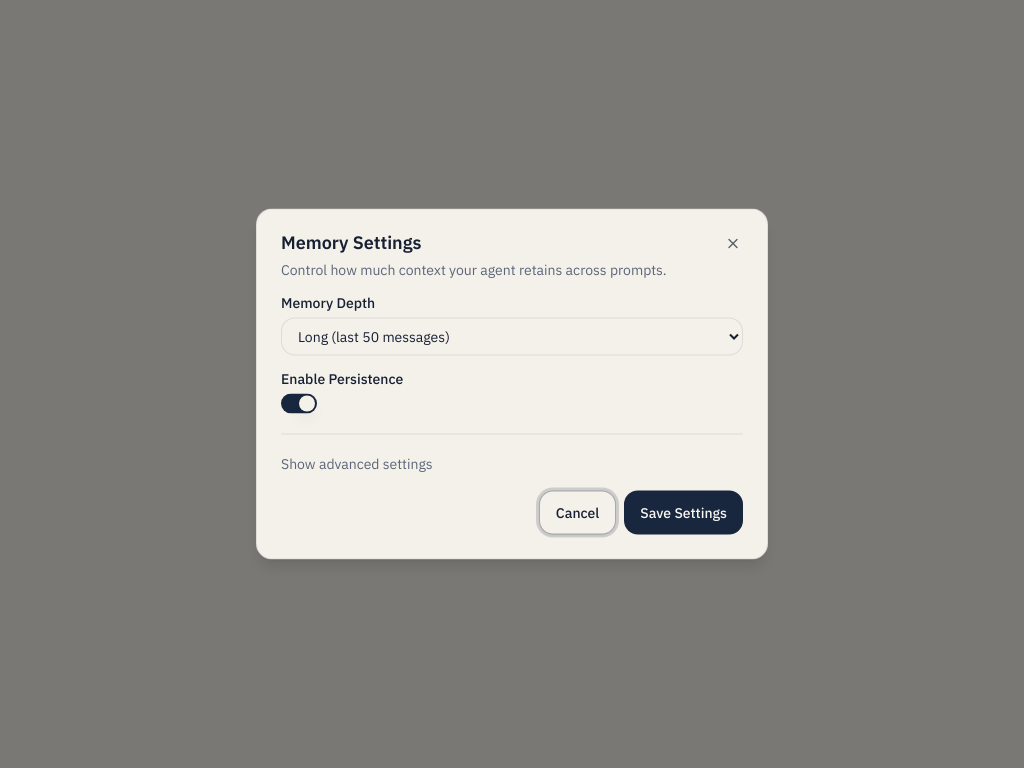
MemoryConfigDialog › shows custom buffer size input when custom depth is selected
Step 1. Select "Custom" in the dropdown labelled "Memory Depth" → {"x": 512, "y": 336}, box x1=281 y1=318 x2=743 y2=356
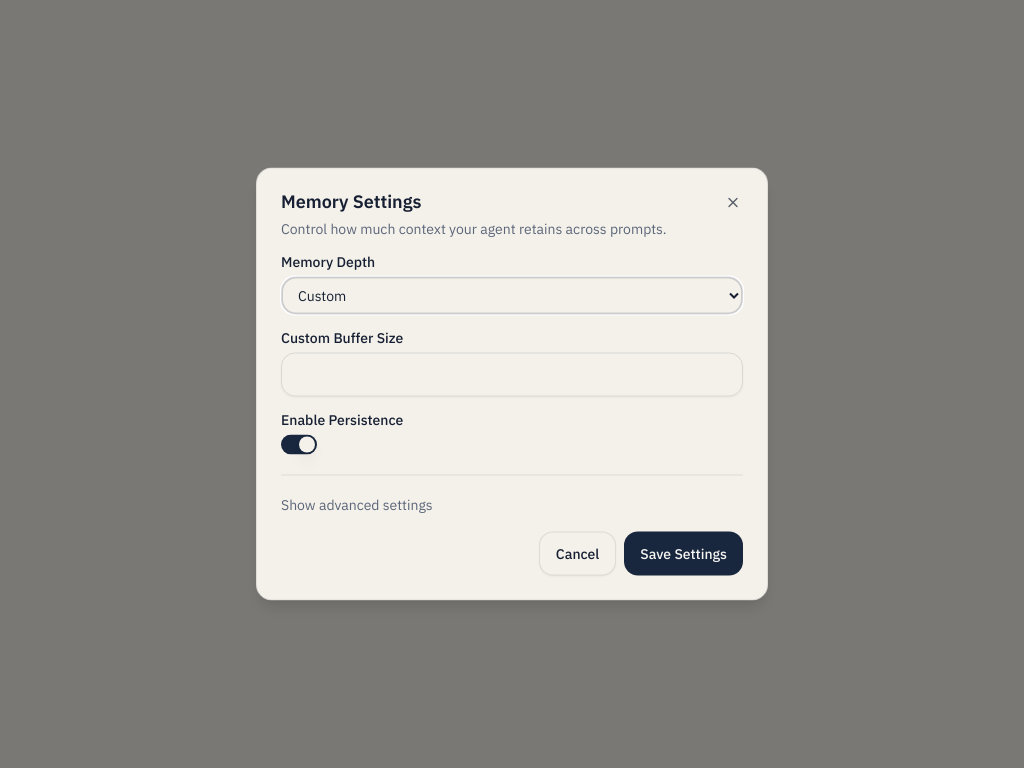
Check: the number field labelled "Custom Buffer Size" is shown, box x1=281 y1=352 x2=743 y2=396
